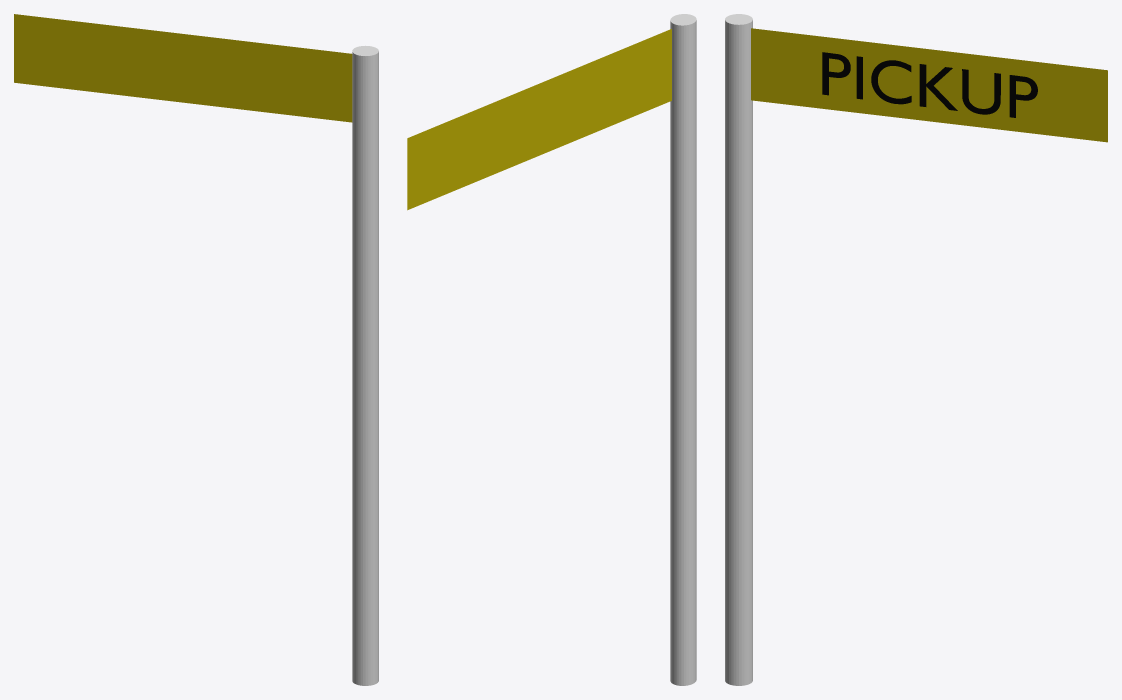
File: pickup_sign.dae
3 views of the same model, side by side, from view 1: azimuth 90°, elevation 25°; view 2: azimuth 150°, elevation 25°; view 3: azimuth 270°, elevation 25° (orthographic). The views are drawn at different scales.
Parts seen in each view (by area): view 1: Cube, Cylinder; view 2: Cube, Cylinder; view 3: Cube, Cylinder, Text.
Part boxes in pixels (x1,y1,x2,y2): Cube: (14, 14, 352, 122); Cylinder: (352, 45, 378, 685); Cube: (407, 29, 671, 210); Cylinder: (670, 14, 696, 685); Cube: (751, 28, 1107, 142); Cylinder: (725, 14, 752, 685); Text: (822, 52, 1037, 117).
Size of the model in its own units: 0.1385 by 0.4458 by 0.8491.
